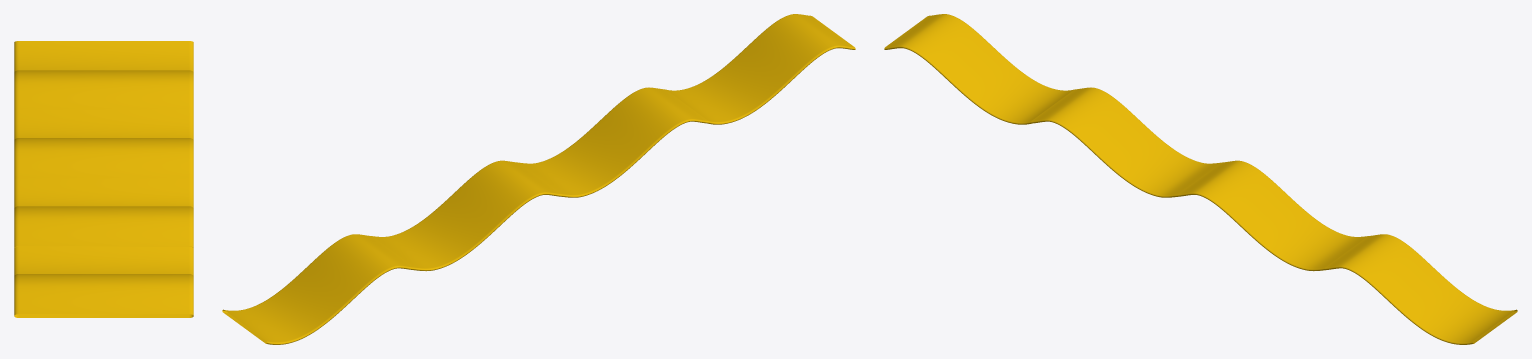
File: Slide.fbx
3 views of the same model, side by side, from view 1: azimuth 90°, elevation 25°; view 2: azimuth 210°, elevation 25°; view 3: azimuth 330°, elevation 25° (orthographic). The views are drawn at different scales.
Visible parts, largest first — view 1: BezierCurve; view 2: BezierCurve; view 3: BezierCurve.
Boxes of the visible parts, box(x1,y1,x2,y2) form: BezierCurve: box(14, 41, 193, 317); BezierCurve: box(222, 14, 855, 344); BezierCurve: box(884, 14, 1517, 344).
Size of the model in its own units: 315 by 83.77 by 41.54.
